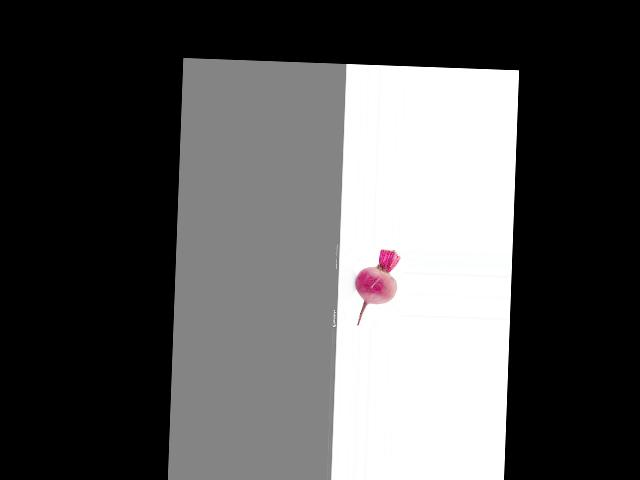beet: (353, 248, 400, 326)
